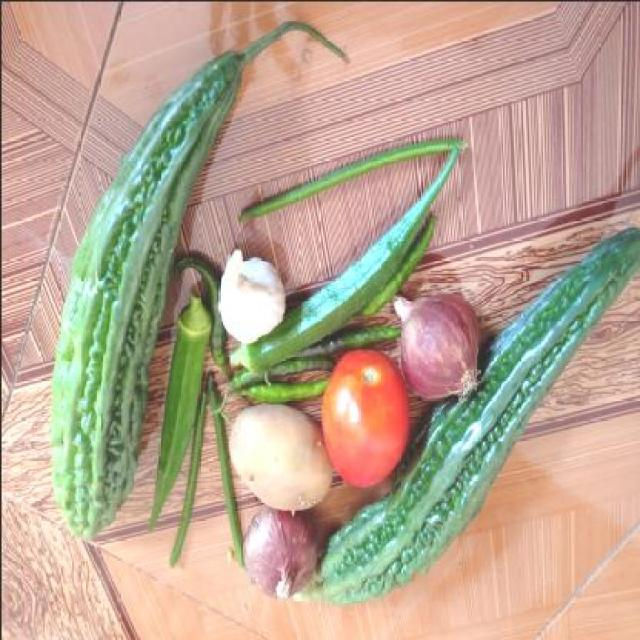Bitter melon: (54, 146, 158, 537)
Garlic: (220, 245, 288, 343)
Green Chili: (229, 360, 328, 406)
Lady finger: (156, 302, 204, 496)
Onion: (397, 288, 477, 395), (243, 506, 317, 594)
Potato: (226, 402, 331, 512)
Tomato: (322, 352, 406, 490)
